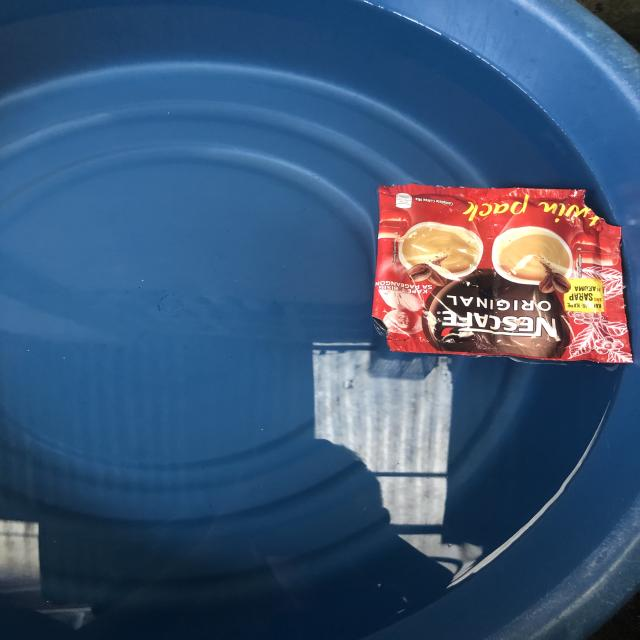Plastic Wrapper: (353, 159, 640, 376)
